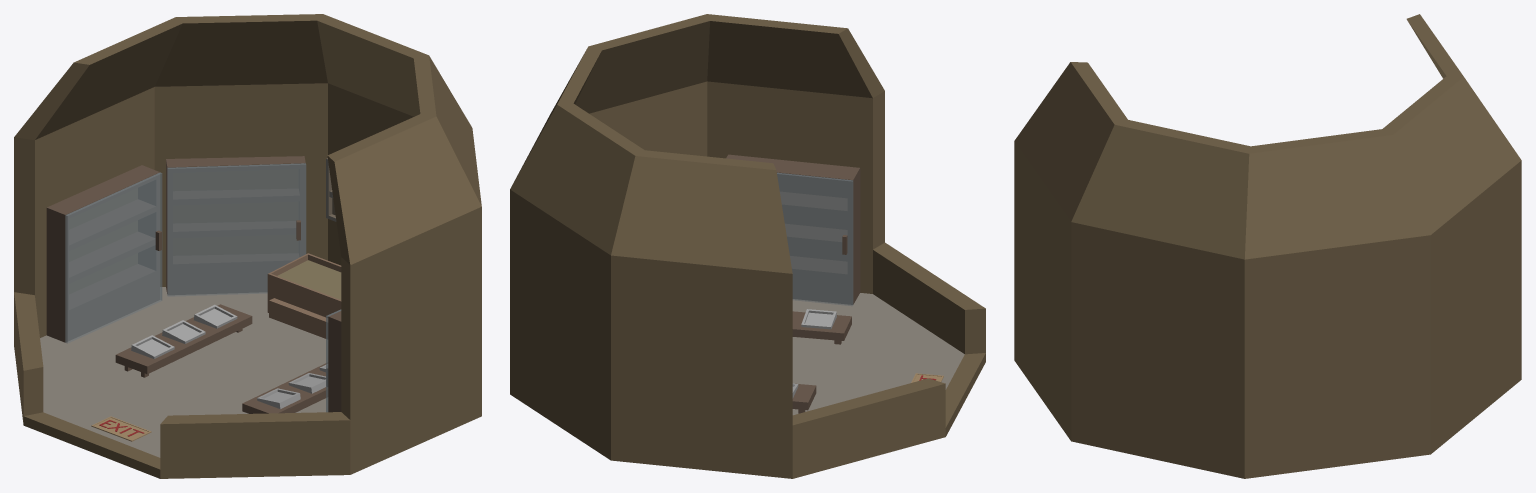
Rendered from INSIDE TEH SHOP 2.fbx.
The picture shows the model from 3 angles, left to right: view 1: azimuth 30°, elevation 25°; view 2: azimuth 150°, elevation 25°; view 3: azimuth 270°, elevation 25°; orthographic projection. The views are drawn at different scales.
Parts seen in each view (by area): view 1: pCube1, pCube10 (×2), pCube9 (×3), pCube17, pCube5 (×2), pCube16 (×2), pCube14 (×2), pCube21, pCube15; view 2: pCube1, pCube9, pCube10, pCube5 (×2), pCube16; view 3: pCube1.
Part boxes in pixels (bbox=[...]): pCube1: bbox=[14, 14, 481, 478]; pCube10 (×2): bbox=[65, 163, 306, 343]; pCube9 (×3): bbox=[46, 156, 341, 412]; pCube17: bbox=[267, 253, 341, 339]; pCube5 (×2): bbox=[115, 304, 327, 413]; pCube16 (×2): bbox=[194, 304, 300, 409]; pCube14 (×2): bbox=[162, 320, 325, 393]; pCube21: bbox=[91, 416, 151, 441]; pCube15: bbox=[131, 335, 174, 358]; pCube1: bbox=[510, 14, 985, 478]; pCube9: bbox=[726, 154, 860, 304]; pCube10: bbox=[777, 172, 853, 305]; pCube5 (×2): bbox=[792, 311, 851, 413]; pCube16: bbox=[801, 309, 836, 329]; pCube1: bbox=[1014, 14, 1521, 478].
Size of the model in its own units: 40.95 by 26.66 by 40.31.
